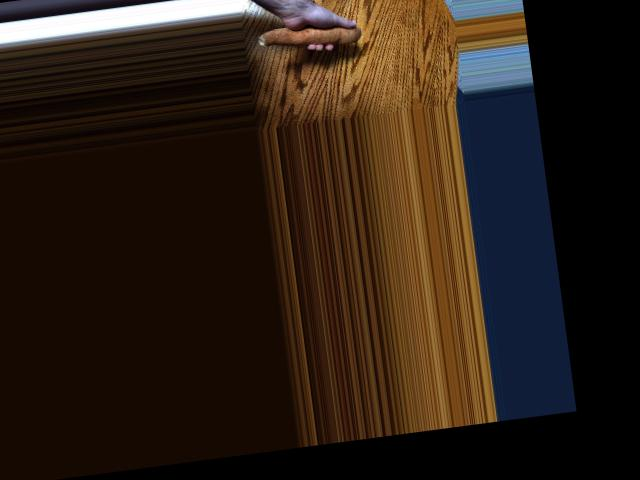sweet_potato: (253, 9, 363, 57)
